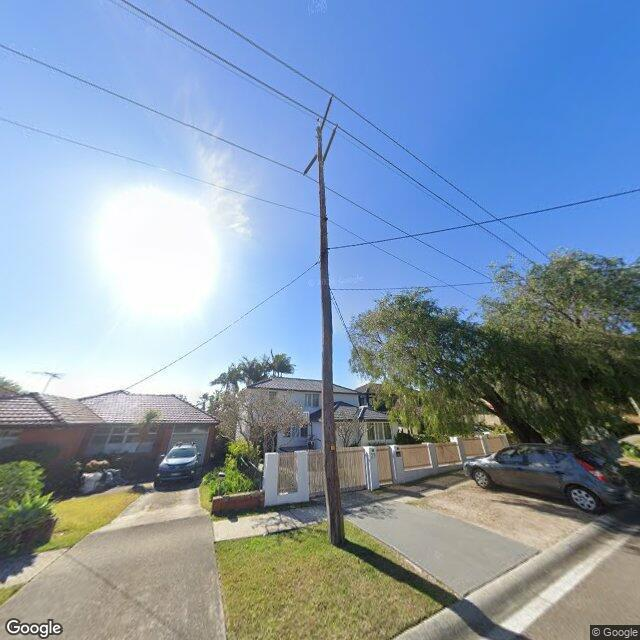HV-transmission: (304, 92, 339, 175)
timber-pole: (316, 122, 345, 547)
